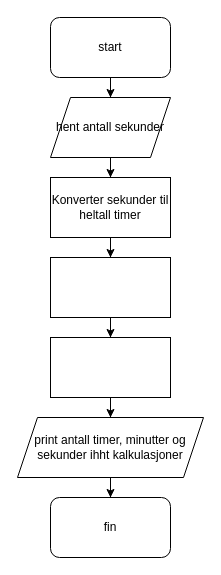
This 221x575 diagram has some shape labels left out. Each missing label, with the centre of its shape:
definer restsekunder som input %60: (110,367)
omregn restsekunder til minutter i heltal: (110,287)
